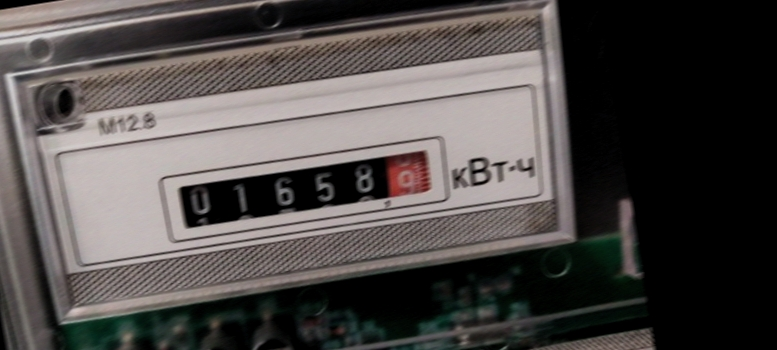0: (187, 185, 211, 218)
1: (230, 182, 252, 216)
5: (311, 171, 337, 205)
6: (271, 174, 296, 210)
8: (351, 161, 376, 196)
9: (393, 169, 418, 200)
screen: (148, 126, 457, 254)
